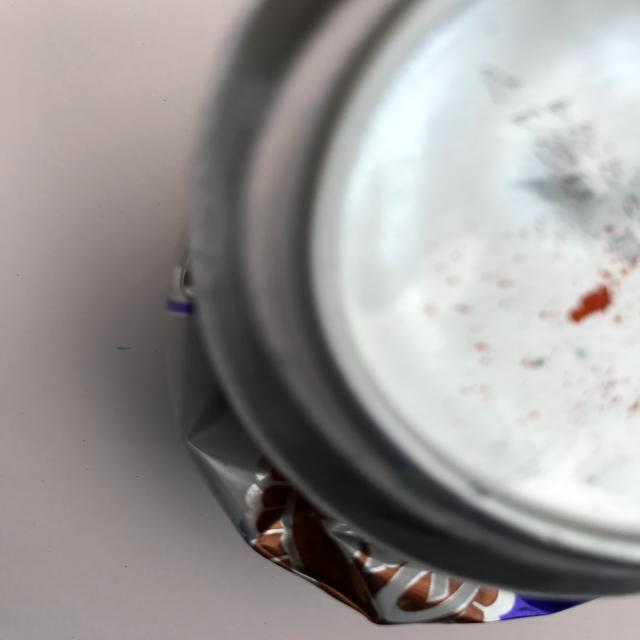metal: (155, 0, 640, 640)
